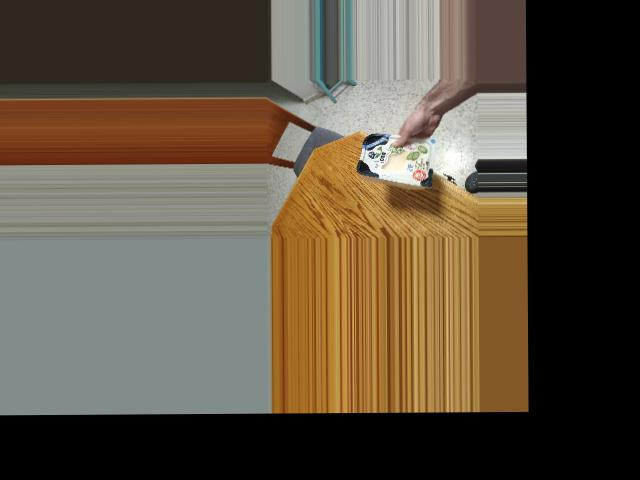cheese: (357, 130, 434, 189)
